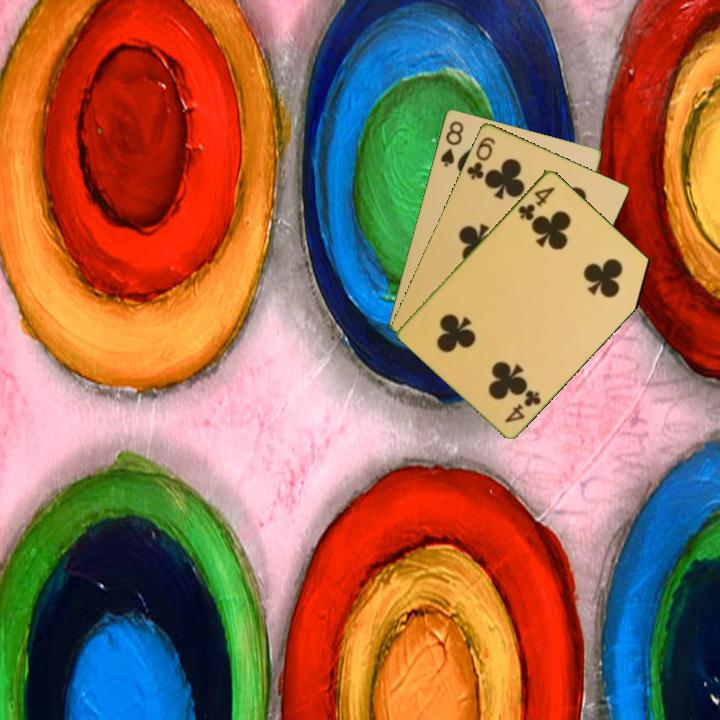4c: (514, 183, 558, 223), (501, 386, 544, 425)
6c: (463, 133, 498, 182)
8s: (437, 117, 466, 169)
